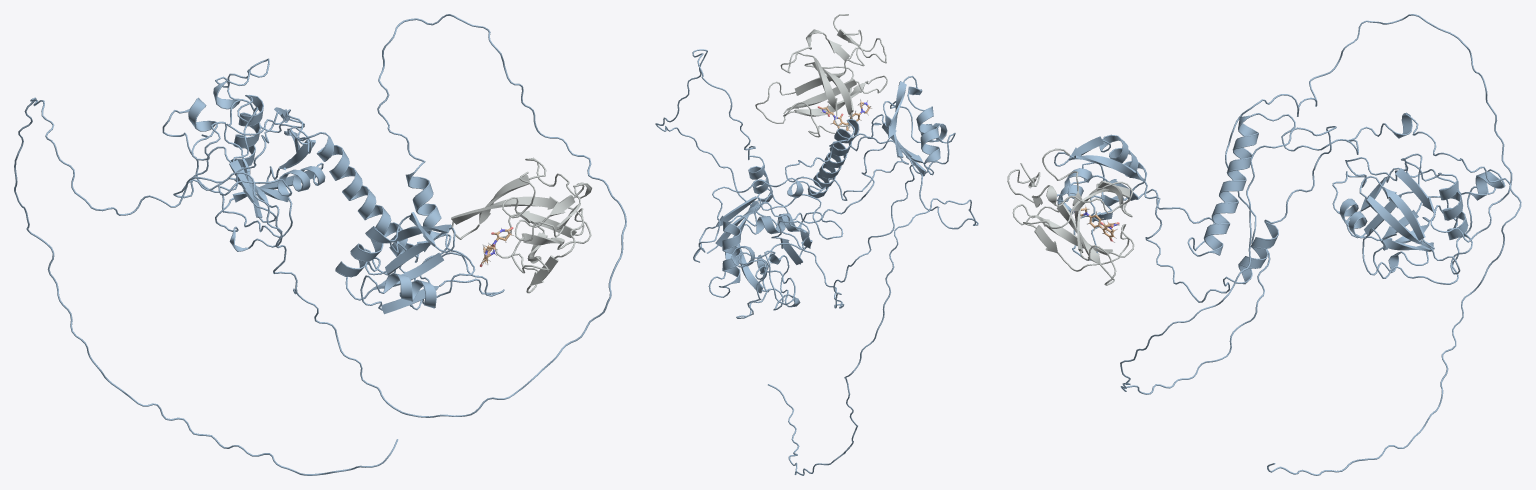
3 renders of one model, left to right at view 1: azimuth 30°, elevation 25°; view 2: azimuth 150°, elevation 25°; view 3: azimuth 270°, elevation 25°, orthographic. The views are drawn at different scales.
Parts seen in each view (by area): view 1: node-geom99, node-geom100; view 2: node-geom99, node-geom100; view 3: node-geom99, node-geom100.
Boxes of the visible parts, box(x1,y1,x2,y2) form: node-geom99: box(162, 58, 592, 293); node-geom100: box(14, 14, 626, 475); node-geom99: box(693, 14, 887, 318); node-geom100: box(655, 49, 978, 475); node-geom99: box(1007, 112, 1510, 285); node-geom100: box(1054, 14, 1521, 475).
Size of the model in its own units: 116 by 105 by 120.
